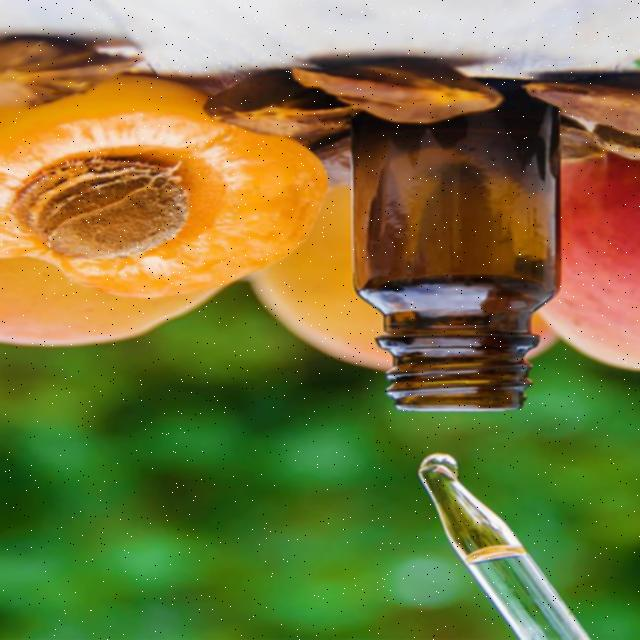kayisi: (0, 82, 322, 294), (549, 153, 640, 375), (0, 270, 231, 342)
kayisi cekirdegi: (23, 157, 200, 266), (286, 41, 508, 124), (518, 54, 640, 160), (0, 21, 149, 95), (205, 73, 350, 141)
